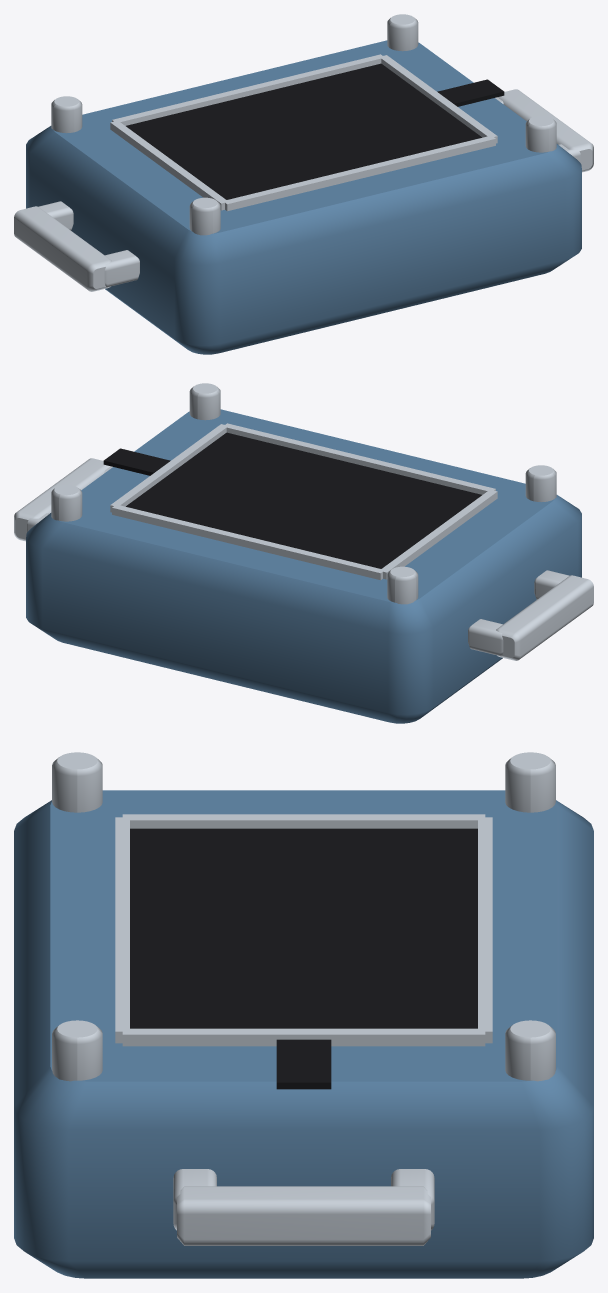
File: objet_moule_plaque.glb
3 renders of one model, top to bottom at view 1: azimuth 30°, elevation 25°; view 2: azimuth 150°, elevation 25°; view 3: azimuth 270°, elevation 25°, orthographic. The views are drawn at different scales.
Visible parts, largest first — view 1: moule_moule_corps.006, moule_moule_creux.006, moule_moule_acier.006; view 2: moule_moule_corps.006, moule_moule_creux.006, moule_moule_acier.006; view 3: moule_moule_corps.006, moule_moule_creux.006, moule_moule_acier.006.
Boxes of the visible parts, x1=… form: moule_moule_corps.006: x1=26, y1=40, x2=581, y2=354; moule_moule_creux.006: x1=126, y1=63, x2=504, y2=199; moule_moule_acier.006: x1=14, y1=14, x2=593, y2=291; moule_moule_corps.006: x1=26, y1=409, x2=581, y2=723; moule_moule_creux.006: x1=103, y1=432, x2=481, y2=568; moule_moule_acier.006: x1=14, y1=383, x2=593, y2=660; moule_moule_corps.006: x1=14, y1=790, x2=593, y2=1278; moule_moule_creux.006: x1=130, y1=828, x2=477, y2=1089; moule_moule_acier.006: x1=52, y1=752, x2=555, y2=1245.
Bounding box in the file's own units: 0.264 × 0.0725 × 0.16.
